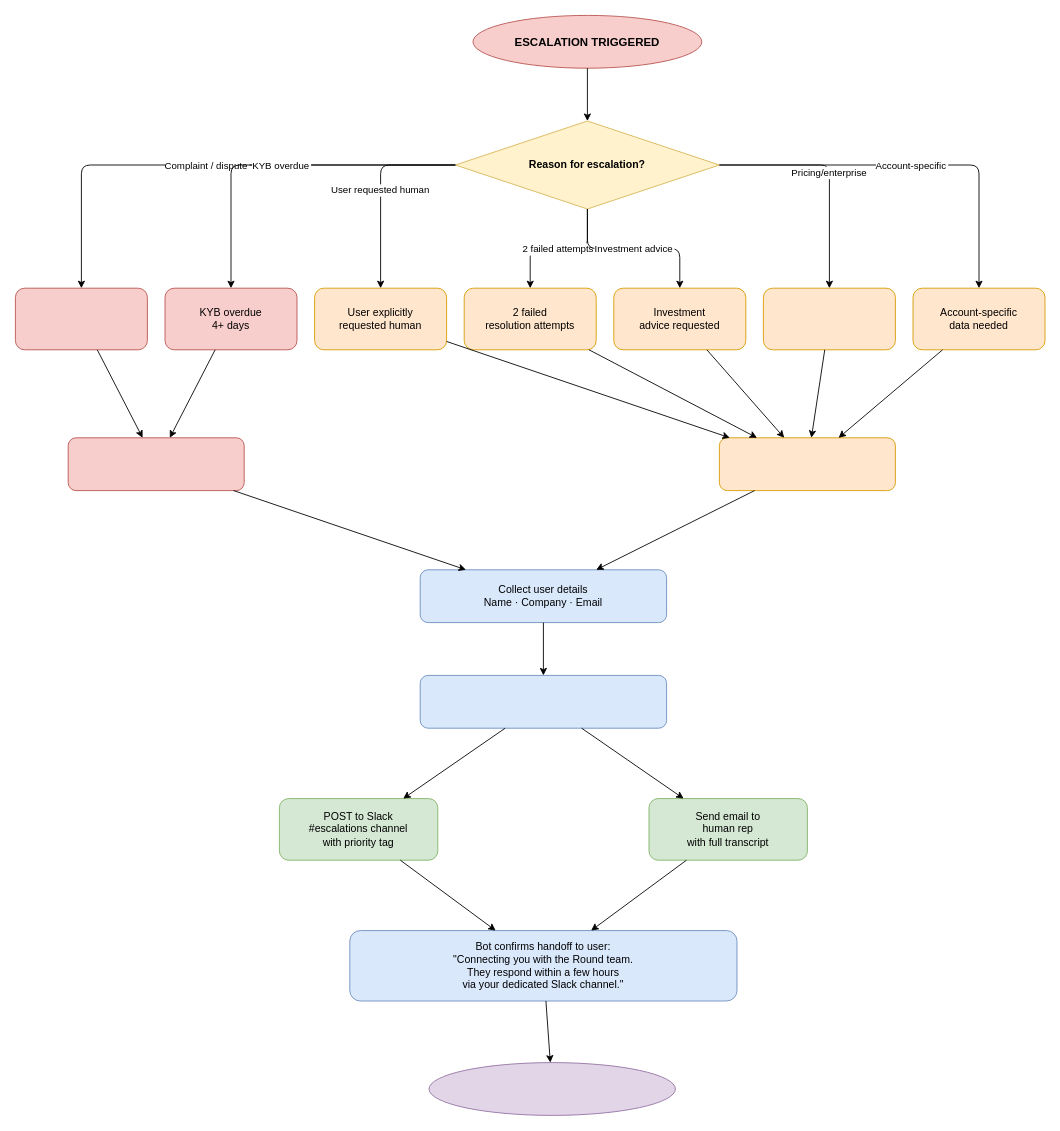
Image size: 1060x1131. Some labels were removed from this diagram. Here are the shapes that lost their labels. From the top down, the centre of each, then its label:
At [81,318]: "Complaint or dispute".
At [829,318]: "Pricing negotiation / enterprise deal".
At [155,464]: "PRIORITY: HIGH".
At [807,464]: "PRIORITY: NORMAL".
At [543,701]: "Generate conversation summary (last 3 turns + issue description)".
At [551,1088]: "Return to Master Flow → CSAT".
